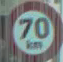Speed limit: (5, 5, 57, 53)
